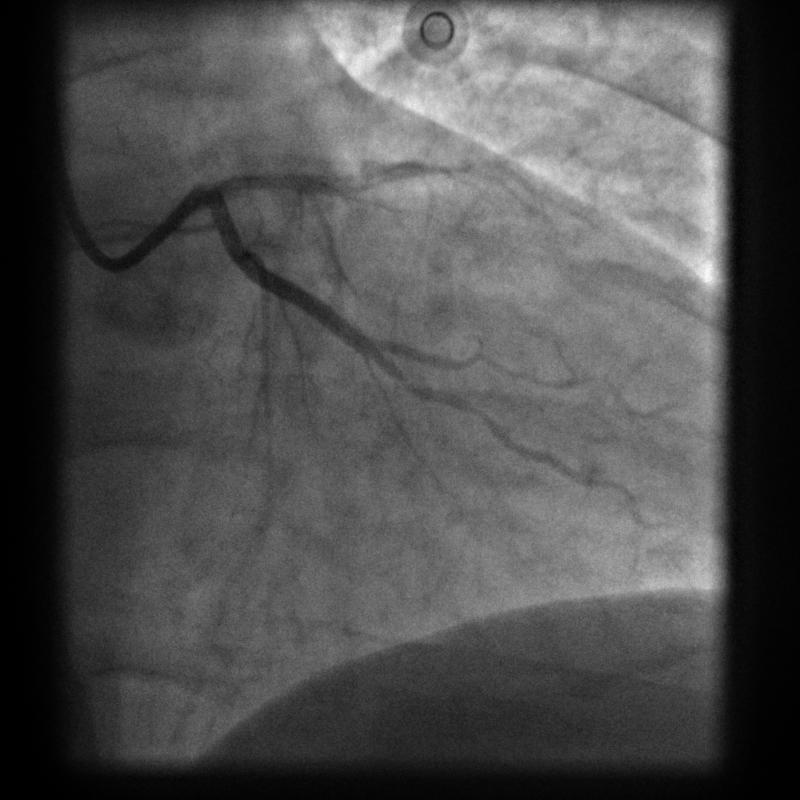Stenosis: (396, 366, 494, 419)
